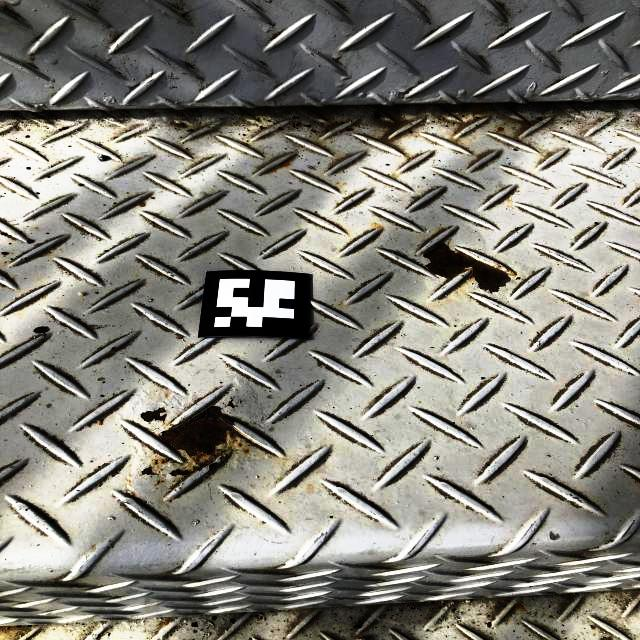Corrosion: (142, 406, 253, 476), (424, 244, 511, 293), (140, 407, 167, 422)
